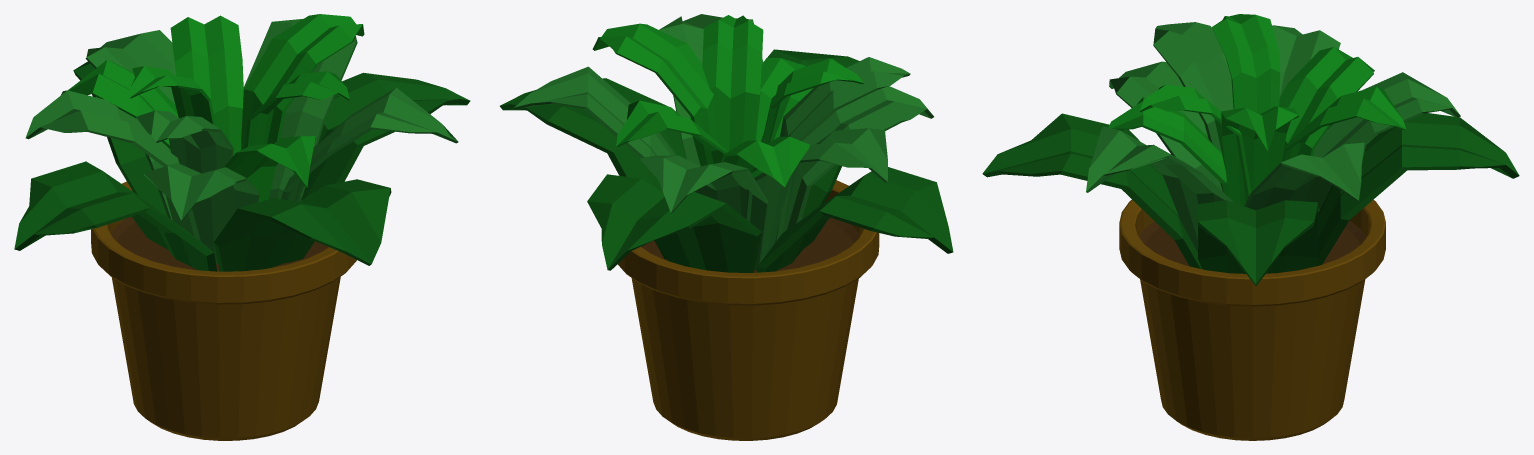
The model's file is Plant.fbx.
The picture shows the model from 3 angles, left to right: view 1: azimuth 30°, elevation 25°; view 2: azimuth 150°, elevation 25°; view 3: azimuth 270°, elevation 25°; orthographic projection.
Visible parts, largest first — view 1: Topf, Plane, Plane.003, Plane.013, Plane.012, Plane.001, Plane.007, Plane.006, Plane.004, Plane.005, Plane.010, Plane.009 (+5 smaller); view 2: Topf, Plane.002, Plane.003, Plane.014, Plane.013, Plane.006, Plane.008, Plane.001, Plane.005, Plane.007, Plane.010, Plane.012 (+5 smaller); view 3: Topf, Plane.002, Plane.001, Plane, Plane.004, Plane.015, Plane.010, Plane.005, Plane.011, Plane.013, Plane.008, Plane.009 (+4 smaller).
Part boxes in pixels (x1=…): Topf: x1=91, y1=181, x2=356, y2=440; Plane: x1=214, y1=179, x2=391, y2=271; Plane.003: x1=14, y1=161, x2=216, y2=271; Plane.013: x1=241, y1=14, x2=364, y2=149; Plane.012: x1=170, y1=15, x2=243, y2=155; Plane.001: x1=301, y1=72, x2=470, y2=200; Plane.007: x1=143, y1=163, x2=259, y2=263; Plane.006: x1=25, y1=90, x2=200, y2=241; Plane.004: x1=281, y1=87, x2=458, y2=201; Plane.005: x1=243, y1=19, x2=357, y2=201; Plane.010: x1=136, y1=110, x2=233, y2=173; Plane.009: x1=224, y1=136, x2=315, y2=202; Topf: x1=617, y1=180, x2=879, y2=440; Plane.002: x1=587, y1=174, x2=761, y2=272; Plane.003: x1=756, y1=167, x2=953, y2=272; Plane.014: x1=702, y1=15, x2=763, y2=151; Plane.013: x1=592, y1=23, x2=716, y2=141; Plane.006: x1=743, y1=128, x2=887, y2=261; Plane.008: x1=640, y1=155, x2=768, y2=270; Plane.001: x1=500, y1=78, x2=685, y2=259; Plane.005: x1=514, y1=66, x2=675, y2=179; Plane.007: x1=787, y1=86, x2=933, y2=229; Plane.010: x1=775, y1=57, x2=910, y2=242; Plane.012: x1=616, y1=100, x2=727, y2=166; Topf: x1=1119, y1=200, x2=1385, y2=440; Plane.002: x1=1315, y1=113, x2=1519, y2=266; Plane.001: x1=1198, y1=200, x2=1318, y2=285; Plane: x1=982, y1=113, x2=1201, y2=268; Plane.004: x1=1086, y1=126, x2=1233, y2=251; Plane.015: x1=1212, y1=14, x2=1279, y2=114; Plane.010: x1=1153, y1=22, x2=1233, y2=191; Plane.005: x1=1244, y1=142, x2=1365, y2=212; Plane.011: x1=1279, y1=47, x2=1374, y2=155; Plane.013: x1=1221, y1=106, x2=1298, y2=205; Plane.008: x1=1313, y1=72, x2=1460, y2=211; Plane.009: x1=1108, y1=97, x2=1228, y2=196.
Bounding box in the file's own units: 1211 × 904 × 1252.
